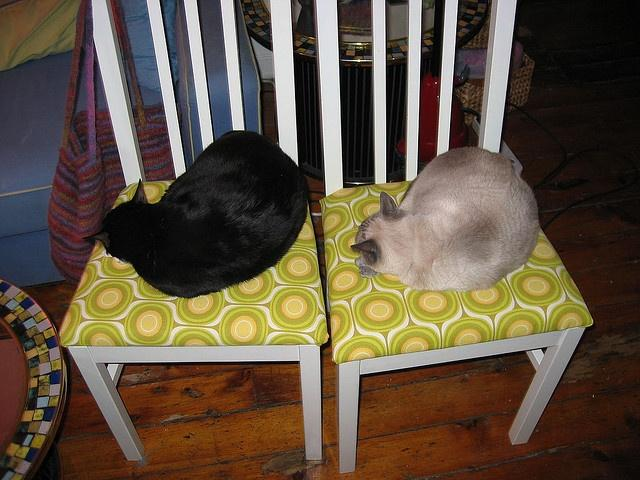Kursi: (314, 0, 594, 474), (59, 0, 329, 461)
